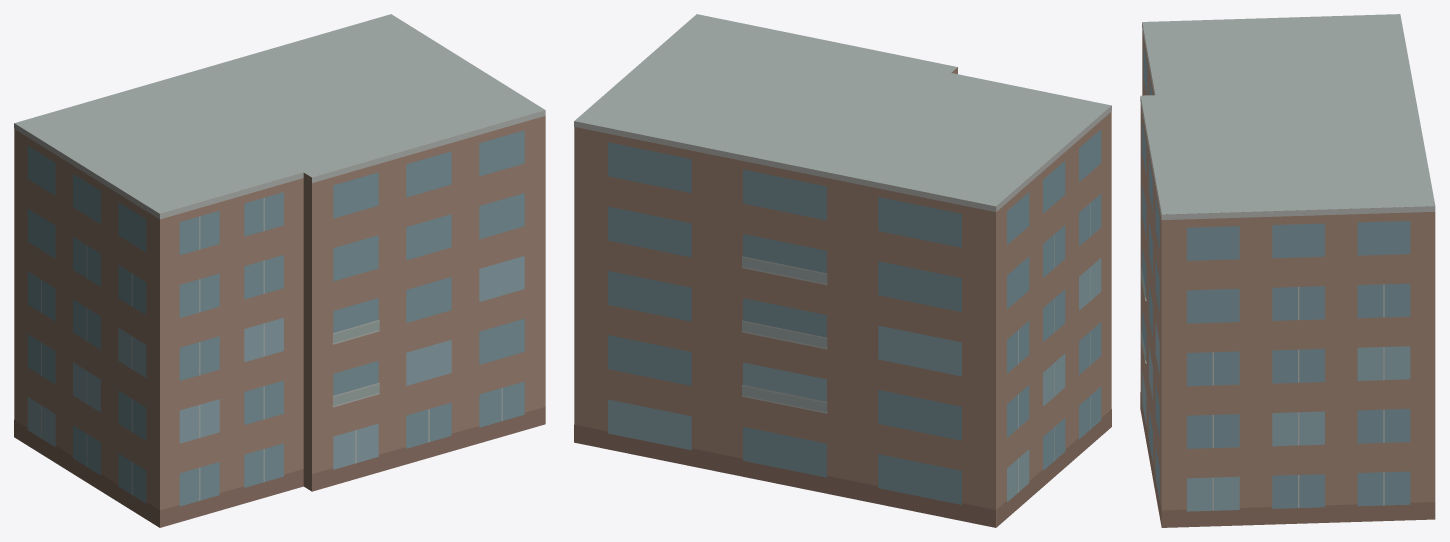
Rendered from survey-upis-32742099.glb.
The picture shows the model from 3 angles, left to right: view 1: azimuth 30°, elevation 25°; view 2: azimuth 150°, elevation 25°; view 3: azimuth 270°, elevation 25°; orthographic projection. The views are drawn at different scales.
Parts seen in each view (by area): view 1: survey-upis-32742099.tmp; view 2: survey-upis-32742099.tmp; view 3: survey-upis-32742099.tmp.
Boxes of the visible parts, left/top/right/bottom form: survey-upis-32742099.tmp: left=14, top=14, right=545, bottom=527; survey-upis-32742099.tmp: left=574, top=14, right=1111, bottom=527; survey-upis-32742099.tmp: left=1140, top=14, right=1435, bottom=527.
Bounding box in the file's own units: 18.75 × 13.65 × 11.66.
